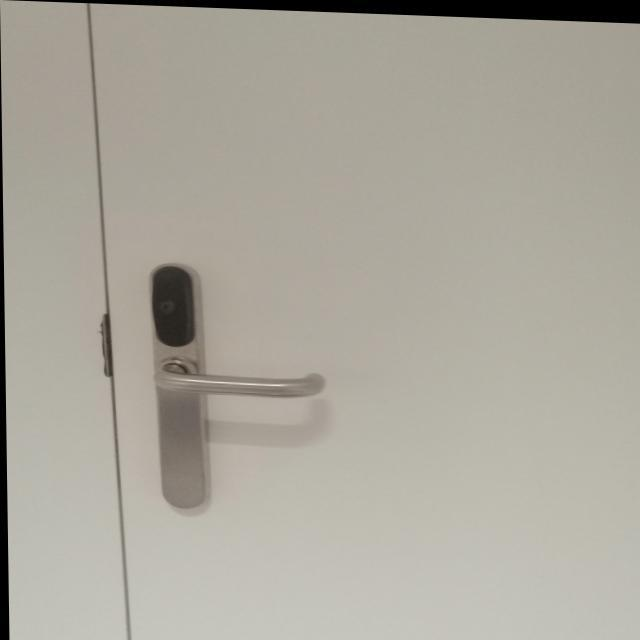door_handle: (145, 352, 330, 402)
